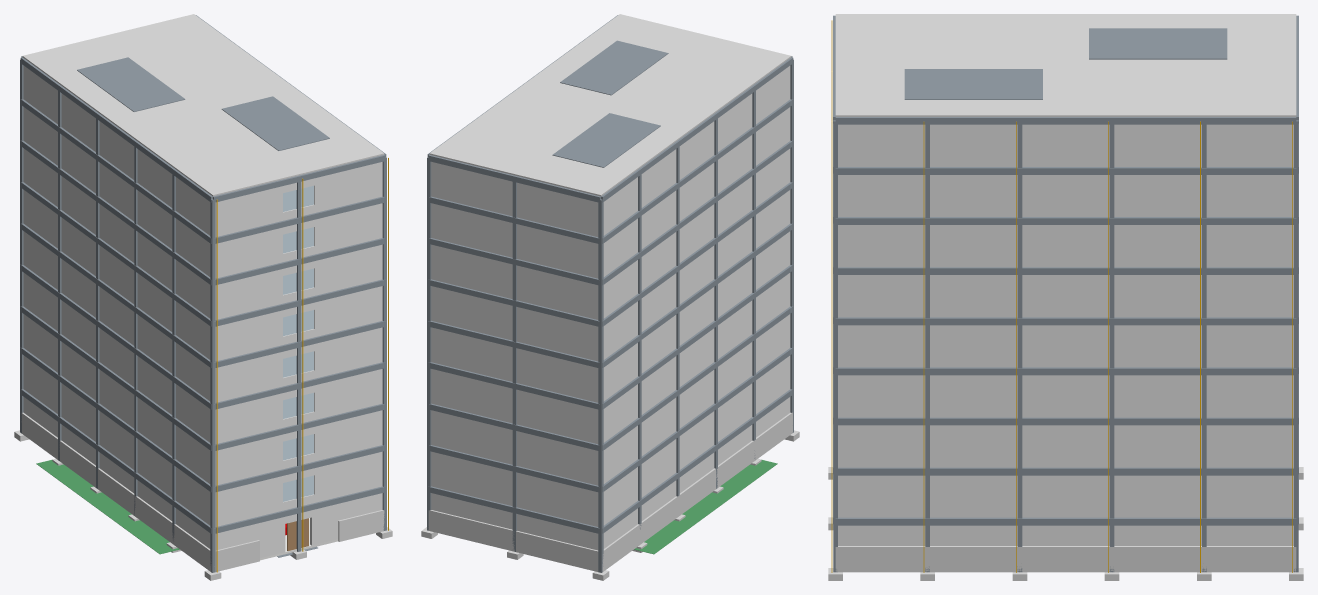
File: generated_building_41.glb
The picture shows the model from 3 angles, left to right: view 1: azimuth 30°, elevation 25°; view 2: azimuth 150°, elevation 25°; view 3: azimuth 270°, elevation 25°; orthographic projection. The views are drawn at different scales.
Visible parts, largest first — view 1: architectural, structural, landscape, windows, electrical, doors; view 2: architectural, structural, landscape; view 3: architectural, structural, landscape, electrical.
Boxes of the visible parts, left/top/right/bottom form: architectural: left=22, top=14, right=384, bottom=559; structural: left=14, top=15, right=392, bottom=580; landscape: left=21, top=412, right=384, bottom=571; windows: left=283, top=185, right=313, bottom=501; electrical: left=216, top=158, right=388, bottom=572; doors: left=287, top=518, right=308, bottom=550; architectural: left=429, top=14, right=791, bottom=550; structural: left=421, top=15, right=799, bottom=580; landscape: left=428, top=412, right=792, bottom=571; architectural: left=835, top=14, right=1296, bottom=545; structural: left=828, top=15, right=1303, bottom=580; landscape: left=835, top=546, right=1296, bottom=572; electrical: left=831, top=20, right=1292, bottom=572.
Size of the model in its own units: 14.9 by 27.74 by 25.8.
